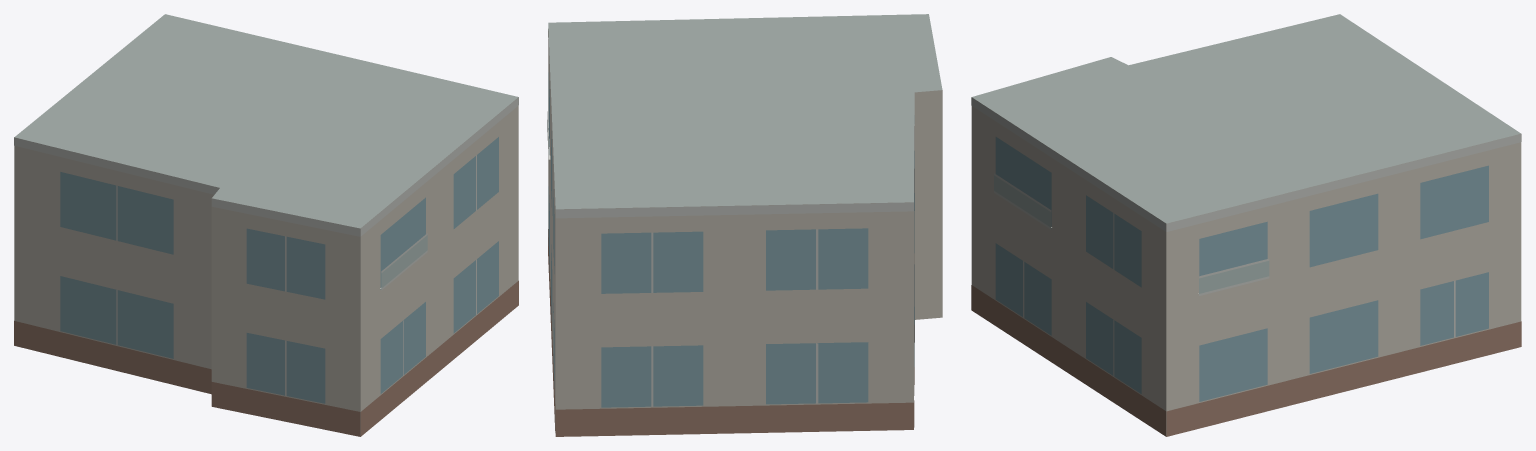
The model's file is survey-upis-32659282.glb.
3 views of the same model, side by side, from view 1: azimuth 30°, elevation 25°; view 2: azimuth 150°, elevation 25°; view 3: azimuth 270°, elevation 25° (orthographic). The views are drawn at different scales.
Parts seen in each view (by area): view 1: survey-upis-32659282.tmp; view 2: survey-upis-32659282.tmp; view 3: survey-upis-32659282.tmp.
Part boxes in pixels (x1=…): survey-upis-32659282.tmp: x1=14, y1=14, x2=518, y2=436; survey-upis-32659282.tmp: x1=547, y1=14, x2=942, y2=436; survey-upis-32659282.tmp: x1=971, y1=14, x2=1521, y2=436.
Bounding box in the file's own units: 12.87 × 6.1 × 14.26.
